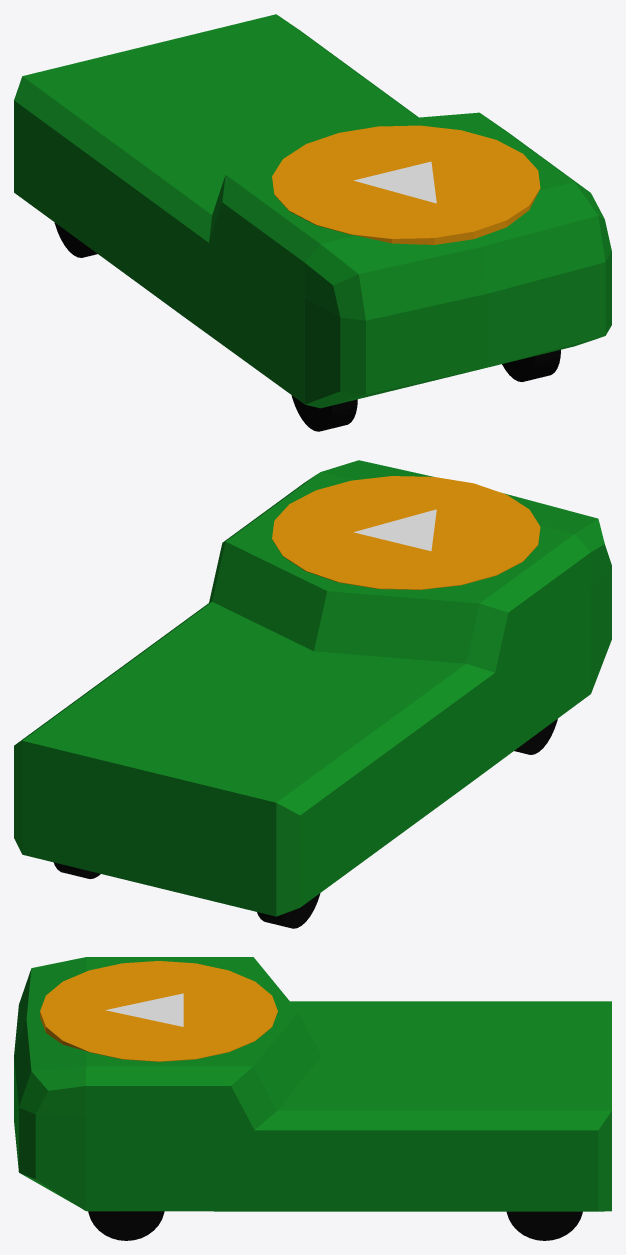
Rendered from Robot2.fbx.
3 views of the same model, one above another, from view 1: azimuth 30°, elevation 25°; view 2: azimuth 150°, elevation 25°; view 3: azimuth 270°, elevation 25° (orthographic). The views are drawn at different scales.
Visible parts, largest first — view 1: Robot, RobotSteering, TyreFR, TyreFL, TyreRR; view 2: Robot, RobotSteering, TyreRR; view 3: Robot, RobotSteering, TyreRL, TyreFL.
Part boxes in pixels (<box>): Robot: <box>14,14,611,408</box>; RobotSteering: <box>272,125,540,244</box>; TyreFR: <box>291,395,357,431</box>; TyreFL: <box>502,350,560,381</box>; TyreRR: <box>54,222,97,257</box>; Robot: <box>14,460,611,916</box>; RobotSteering: <box>272,476,540,589</box>; TyreRR: <box>257,893,320,928</box>; Robot: <box>14,957,611,1211</box>; RobotSteering: <box>40,961,277,1061</box>; TyreRL: <box>506,1211,582,1240</box>; TyreFL: <box>88,1211,164,1240</box>.
Bounding box in the file's own units: 1.13 × 0.7747 × 2.31.
